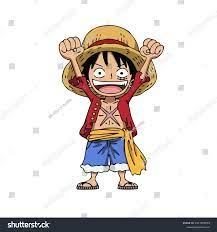luffy: (58, 24, 164, 105)
